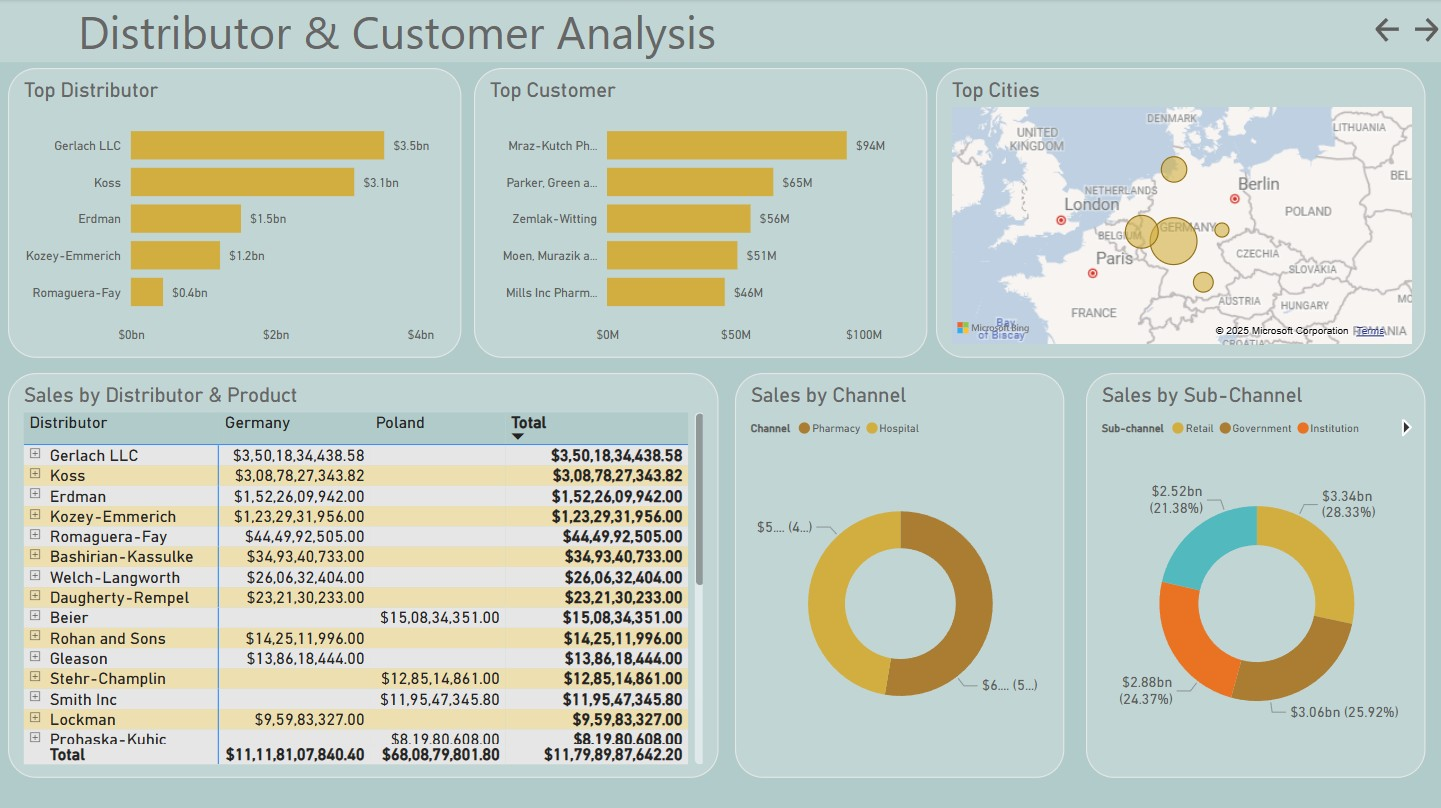

The dashboard page shown, as its layout file describes it:
{"tool":"powerbi","page":{"name":"Distributor & Customer Analysis","canvas":[1280,720],"ordinal":2},"visuals":[{"type":"shape","box":[0,0,1280.4,55.9],"z":0},{"type":"barChart","title":"Top Distributor","fields":{"Y":["Sum(FACT-sales.Sales)"],"Category":["DIM-distributor.Distributor"]},"box":[8,61.2,401.7,257.1],"z":1000},{"type":"actionButton","box":[1216.6,12.4,33.7,30.1],"z":2000},{"type":"pivotTable","title":"Sales by Distributor & Product","fields":{"Columns":["DIM-country.Country"],"Values":["Sum(FACT-sales.Sales)"],"Rows":["DIM-distributor.Distributor","DIM-product.Product Class","DIM-product.Product Name"]},"box":[8,331.6,629.6,359.1],"z":3000},{"type":"actionButton","box":[1250.2,12.4,30.1,30.1],"z":4000},{"type":"barChart","title":"Top Customer","fields":{"Y":["Sum(FACT-sales.Sales)"],"Category":["DIM-customer.Customer Name"]},"box":[421.2,61.2,401.7,257.1],"z":5000},{"type":"donutChart","title":"Sales by Channel","fields":{"Y":["Sum(FACT-sales.Sales)"],"Category":["DIM-channel.Channel"]},"box":[652.6,331.6,291.7,359.1],"z":6000},{"type":"donutChart","title":"Sales by Sub-Channel","fields":{"Y":["Sum(FACT-sales.Sales)"],"Category":["DIM-subchannel.Sub-channel"]},"box":[963.8,331.6,301.5,359.1],"z":7000},{"type":"map","title":"Top Cities","fields":{"Category":["DIM-city.City"],"Y":["Avg(DIM-city.Latitude)"],"X":["Avg(DIM-city.Longitude)"],"Size":["Sum(FACT-sales.Sales)"]},"box":[830.8,61.2,434.5,257.1],"z":8000}]}

Visuals, with their boxes in screenshot pixels (x1, y1, x2, y2), scaled from the page's 1280x720 canvas onto the 1441x808 screenshot:
shape: region(0, 0, 1440, 63)
"Top Distributor" barChart: region(9, 69, 461, 357)
actionButton: region(1370, 14, 1408, 48)
"Sales by Distributor & Product" pivotTable: region(9, 372, 718, 775)
actionButton: region(1407, 14, 1440, 48)
"Top Customer" barChart: region(474, 69, 926, 357)
"Sales by Channel" donutChart: region(735, 372, 1063, 775)
"Sales by Sub-Channel" donutChart: region(1085, 372, 1424, 775)
"Top Cities" map: region(935, 69, 1424, 357)
